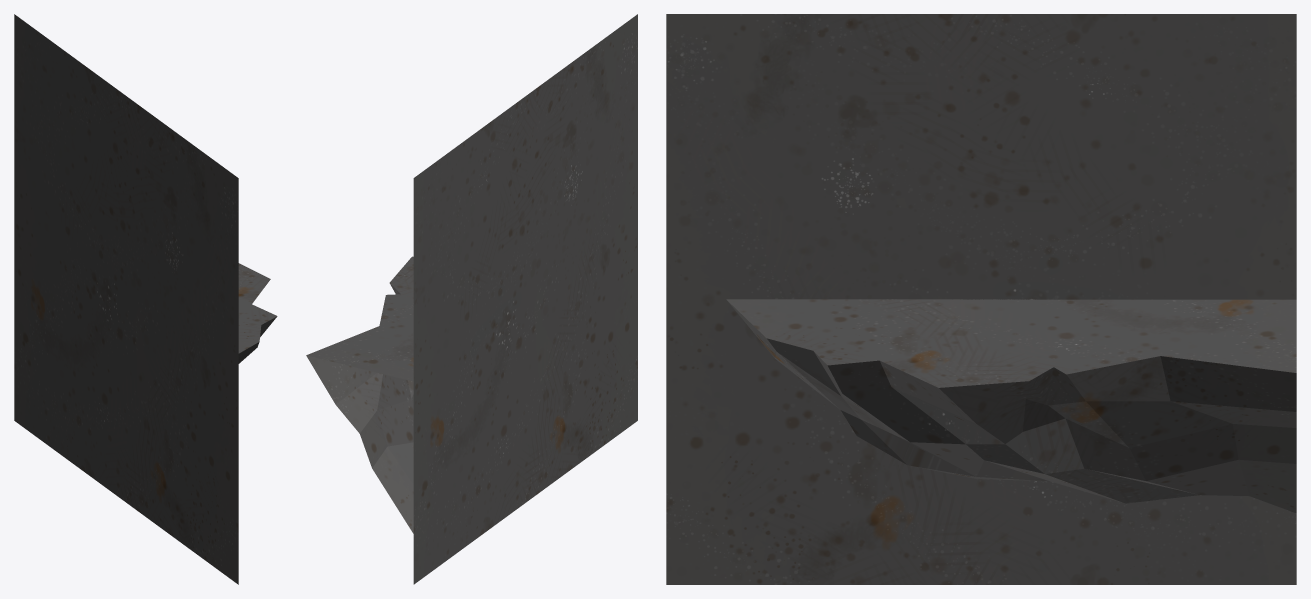
Rendered from Wall-Outcrop-Start.fbx.
3 views of the same model, side by side, from view 1: azimuth 30°, elevation 25°; view 2: azimuth 150°, elevation 25°; view 3: azimuth 270°, elevation 25° (orthographic). The views are drawn at different scales.
Parts seen in each view (by area): view 1: Wall-Outcrop-Start; view 2: Wall-Outcrop-Start; view 3: Wall-Outcrop-Start.
Boxes of the visible parts, x1,y1,x2,y2 form: Wall-Outcrop-Start: [14, 14, 277, 584]; Wall-Outcrop-Start: [306, 14, 637, 584]; Wall-Outcrop-Start: [666, 14, 1296, 584].
Bounding box in the file's own units: 66.45 × 200 × 200.
